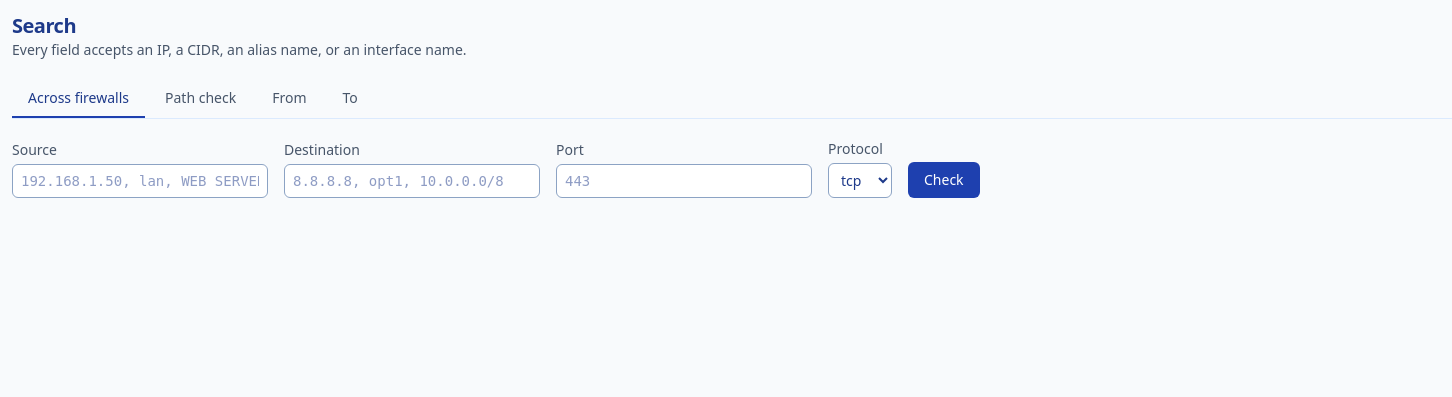
Scenario: SearchPage › warns when a result depends on an alias it could not resolve
Step 1. Click the tab "Path check" → (201, 99), box [149,80,252,118]
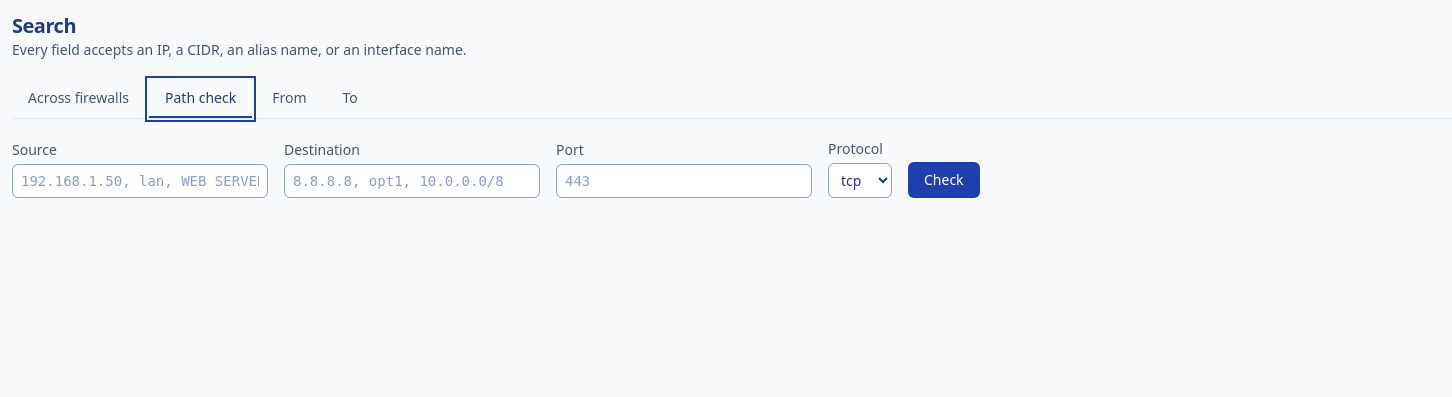
Step 2. Type "192.168.1.50" into the field labelled "Source" → (140, 181), box [12,164,268,198]
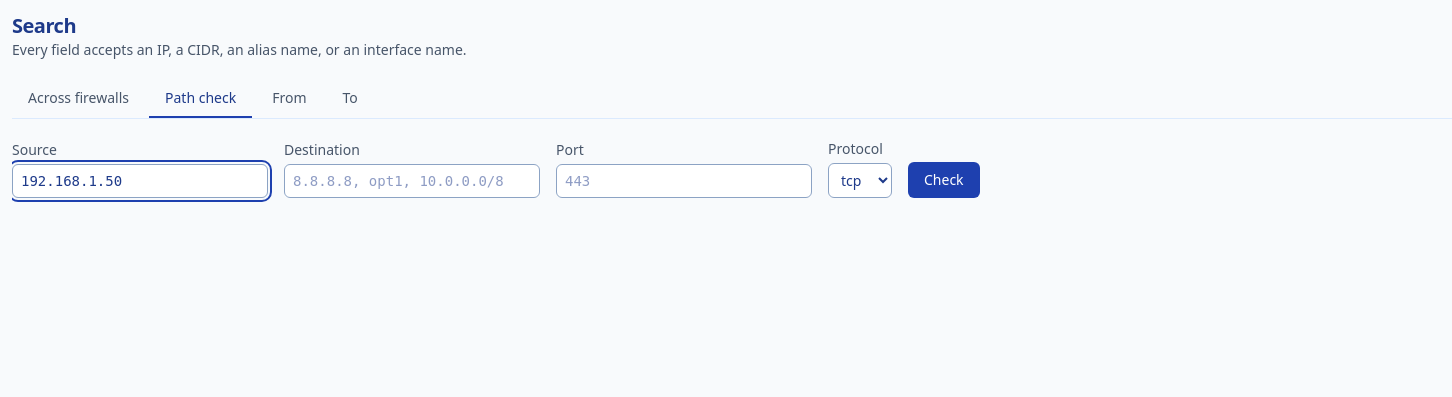
Step 3. Type "8.8.8.8" into the field labelled "Destination" → (412, 181), box [284,164,540,198]
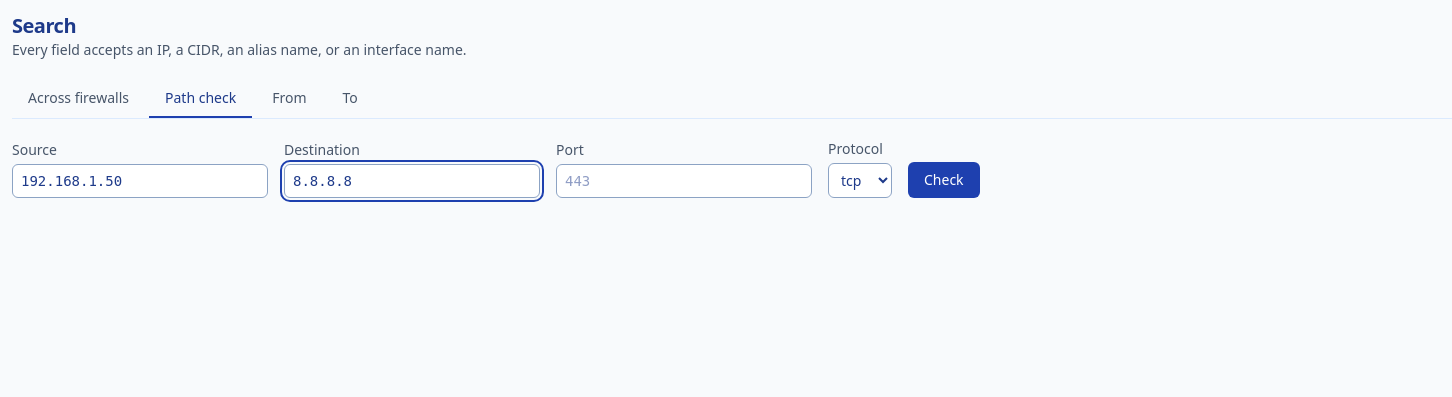
Step 4. Click the button "Check" → (944, 180), box [908,162,980,198]
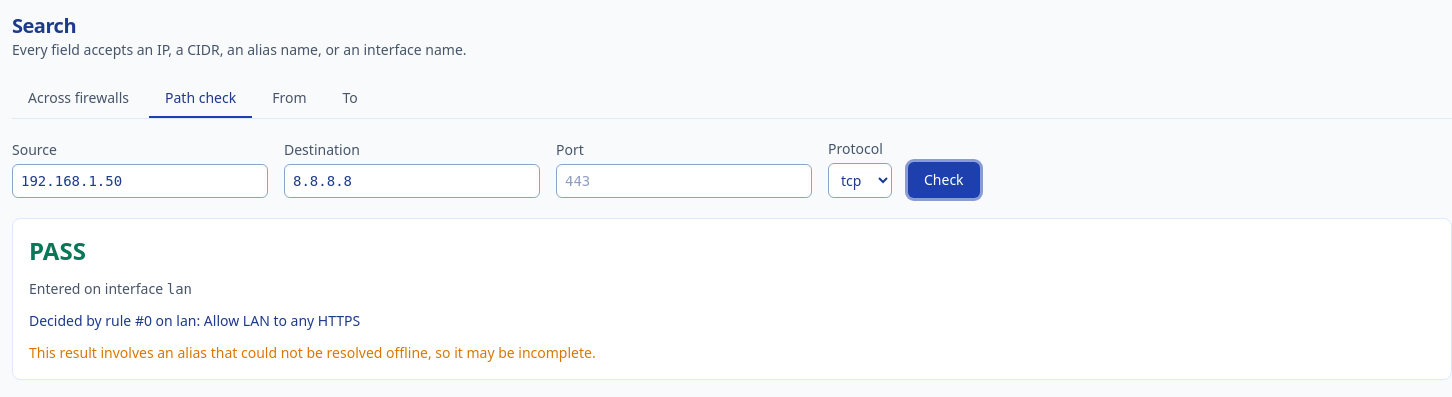
Now the text "could not be resolved offline" is shown, box [29,343,596,362]
